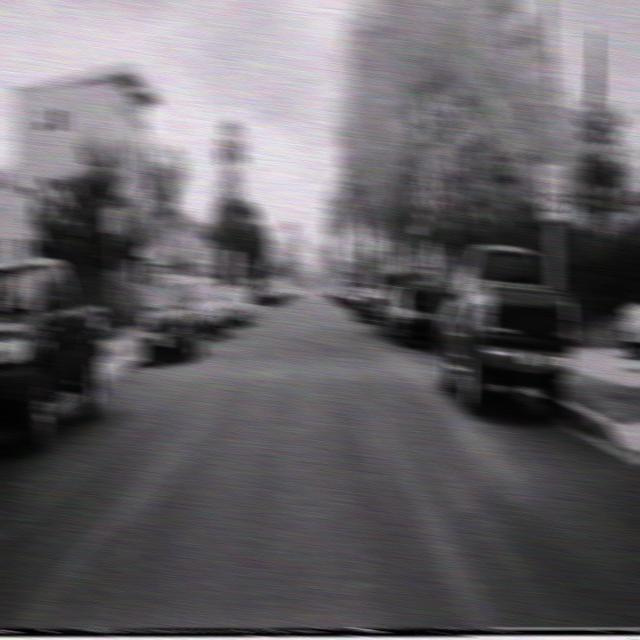speedLimit25: (537, 159, 570, 221)
